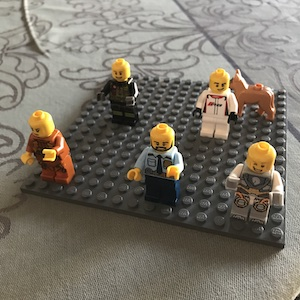Lego: (222, 145, 284, 223), (128, 122, 184, 205), (23, 109, 78, 185), (194, 68, 238, 139), (97, 56, 139, 124)
